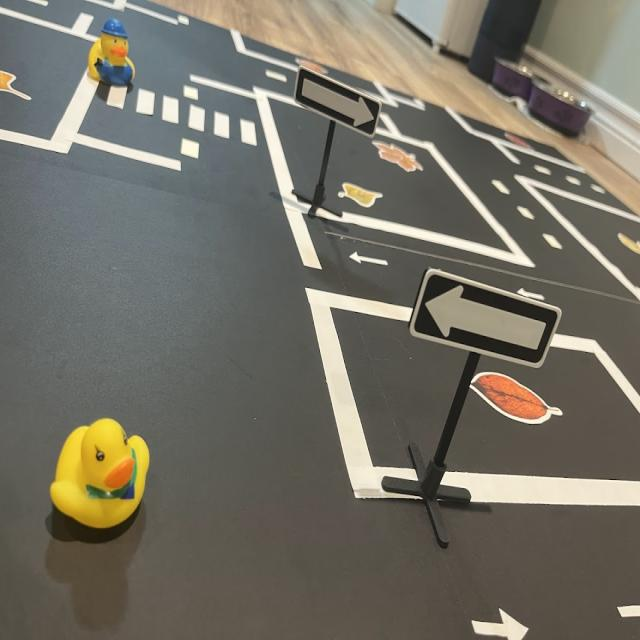duck_regular: (41, 418, 150, 544)
duck_specialty: (83, 10, 139, 87)
road_crosswalk: (100, 74, 263, 155)
road_oneway: (461, 597, 546, 640), (347, 245, 390, 279), (513, 280, 551, 304)
sign_oneway_left: (407, 266, 565, 369)
sign_oneway_right: (295, 66, 390, 145)
